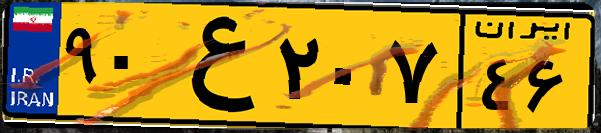0: (330, 28, 385, 110), (110, 28, 158, 98)
2: (270, 28, 330, 110)
4: (475, 38, 525, 113)
6: (525, 38, 570, 115)
7: (385, 28, 445, 110)
9: (57, 26, 110, 100)
ع: (158, 12, 270, 120)
